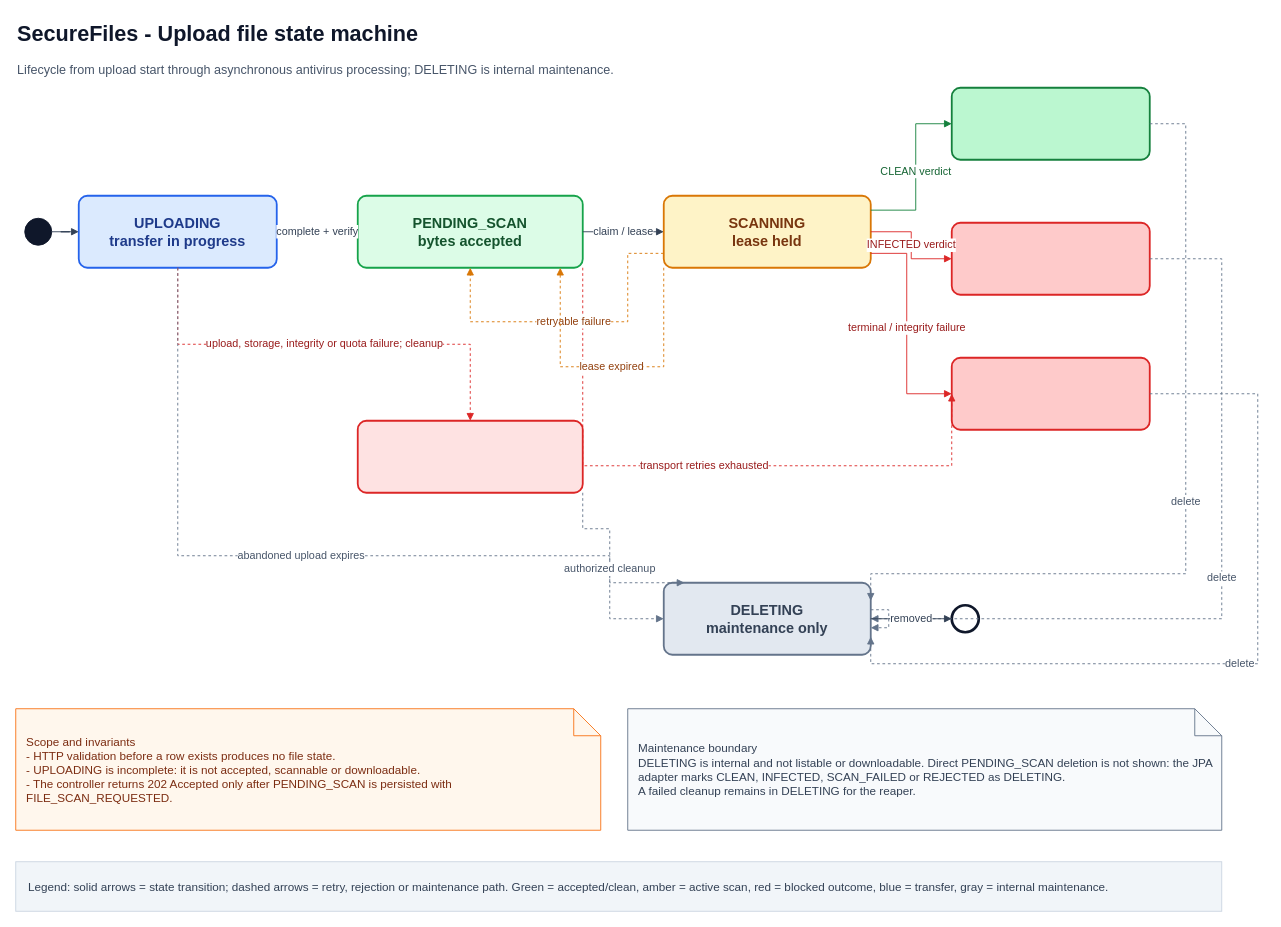
Some shapes in this 1281 by 927 pixel diagram are drawn without their labels. The centre of each missing label's shape, as x and y in pixels:
CLEAN download allowed: point (1050, 123)
INFECTED blocked: point (1050, 258)
REJECTED upload not accepted: point (469, 456)
SCAN_FAILED blocked: point (1050, 393)
